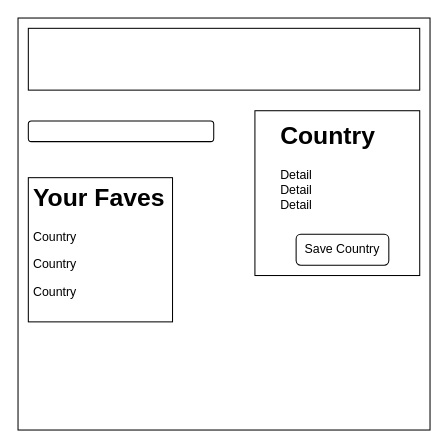
The diagram is 448 pixels wide and 448 high, and some of its shapes have lost their labels. The centre of each missing label's shape, as x and y in pixels:
"Countries of the World" belongs at pixel 223 58.
"Tell me about..." belongs at pixel 120 131.
